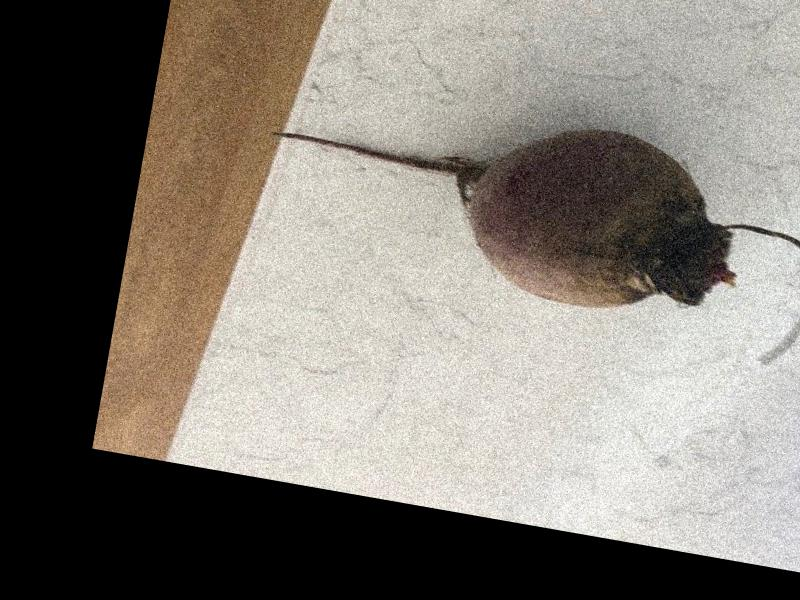Beet: (245, 73, 800, 371)
